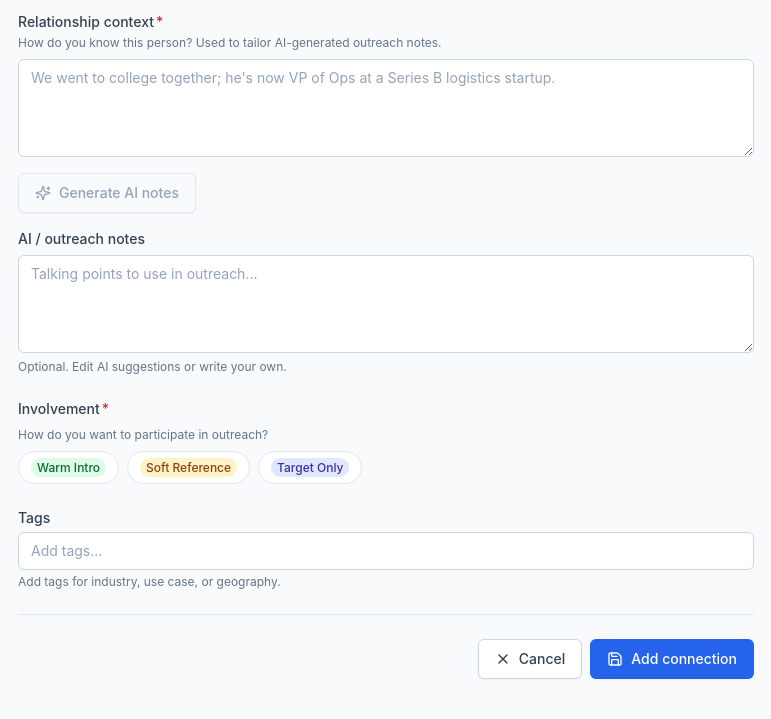
<AddEditConnectionForm /> › Create mode - validation (F-001) › clears a field's inline error as soon as the user types into it
(page scrolled)
// Trigger validation.
Click the button with test id "form-submit-button" at {"x": 672, "y": 659}, box [590,639,754,679]
(page scrolled)
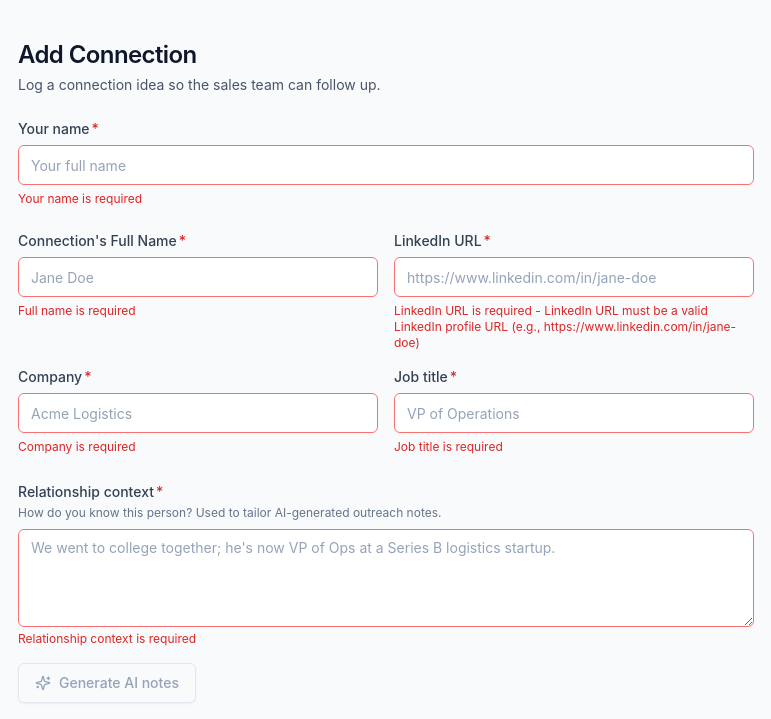
Now the text "Full name is required" is shown, box [18,303,136,318]
// Type a single character into the full_name field.
Type "J" into the field with test id "form-full-name" at {"x": 198, "y": 277}, box [18,257,378,297]
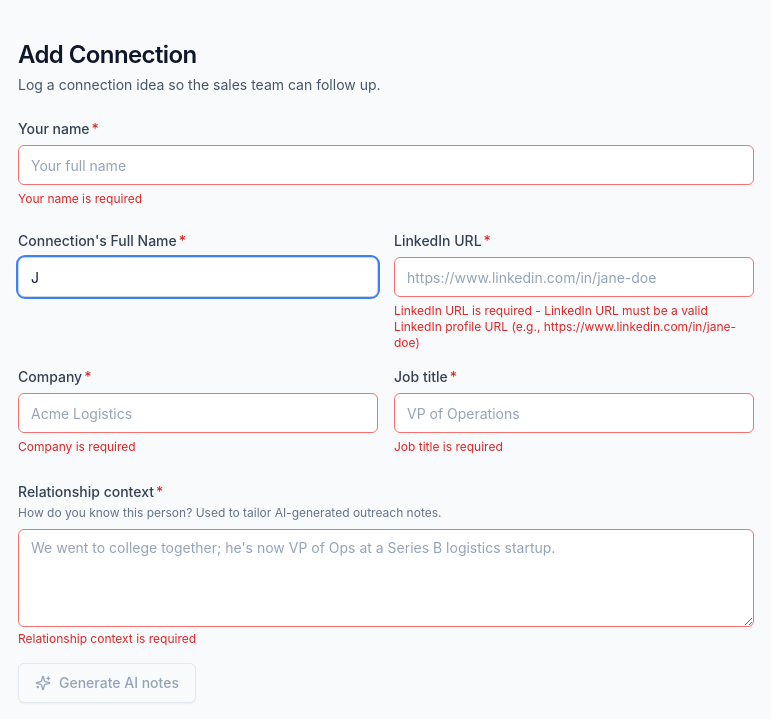
Now the text "LinkedIn URL is required" is shown, box [394,303,736,350]
Now the text "Full name is required" is gone
